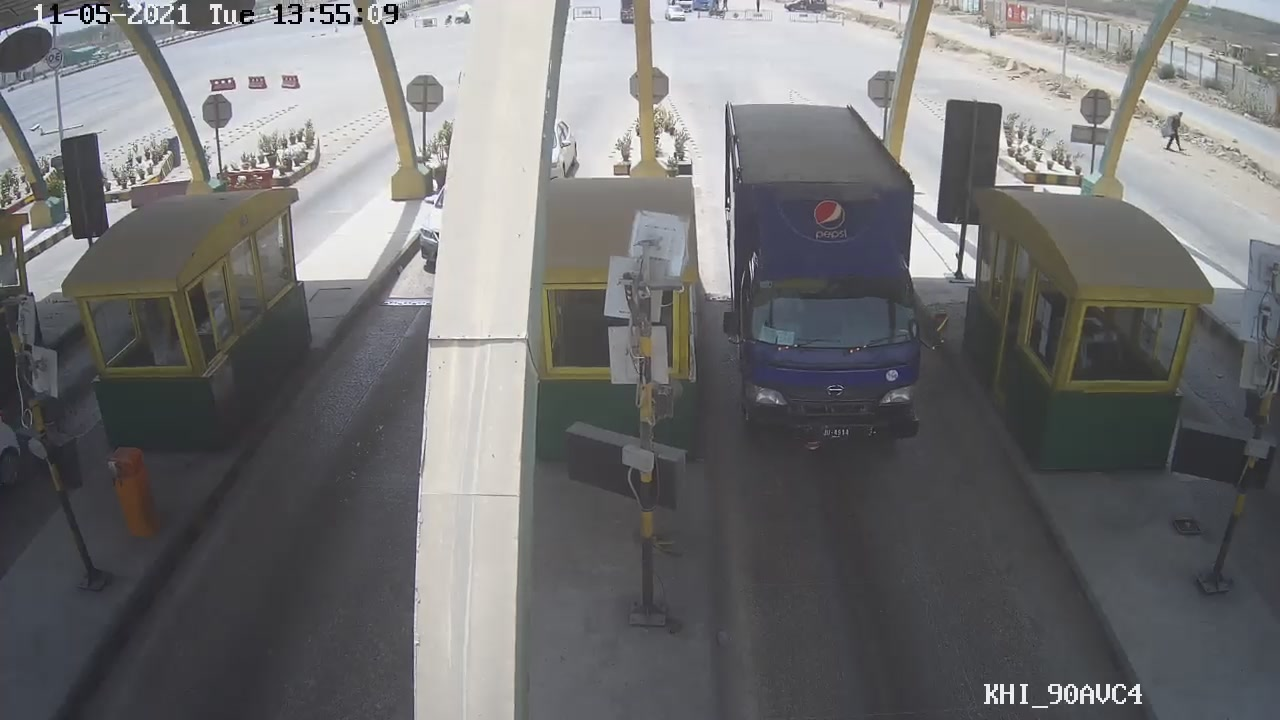F5: (710, 79, 938, 456)
